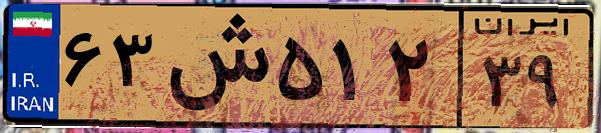1: (330, 28, 385, 110)
2: (385, 28, 445, 110)
3: (475, 38, 525, 113), (110, 28, 158, 98)
5: (270, 28, 330, 110)
6: (57, 26, 110, 100)
9: (525, 38, 570, 115)
ش: (158, 12, 270, 120)
